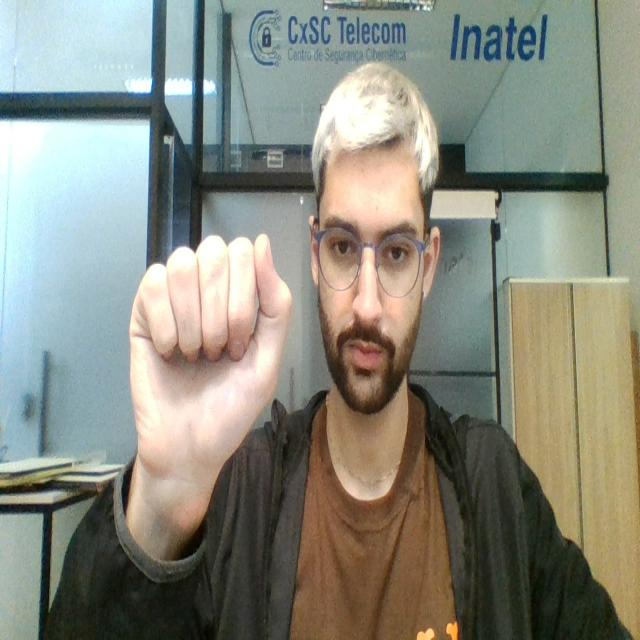A: (123, 228, 296, 482)
